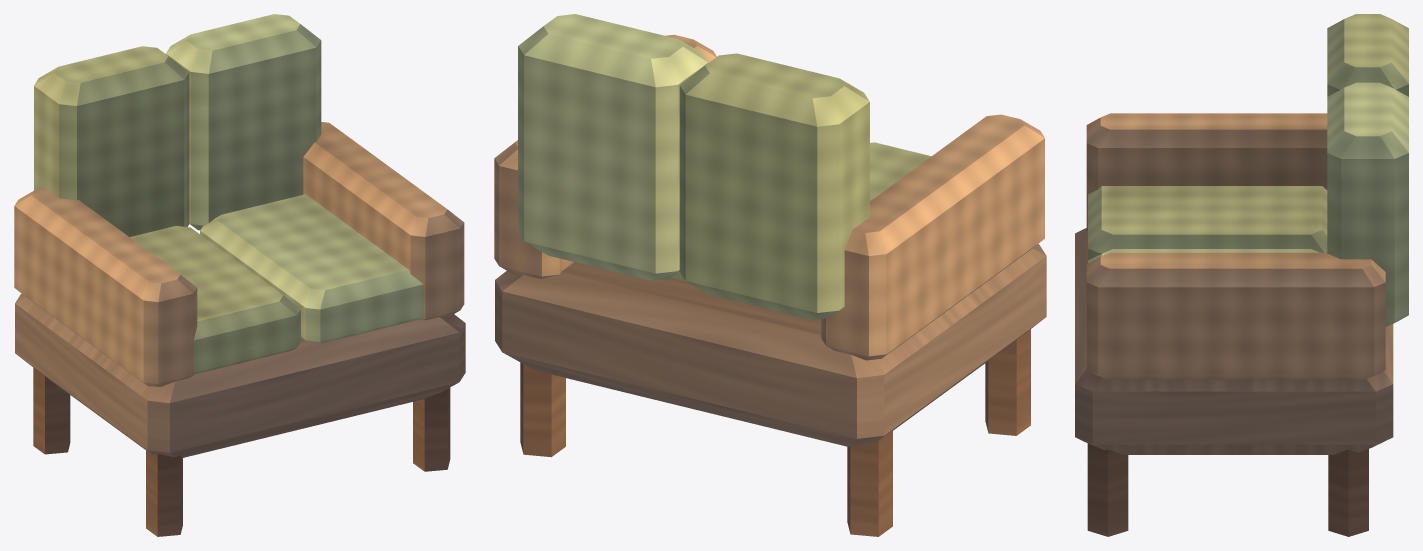
The model's file is furniture_armchair.glb.
3 views of the same model, side by side, from view 1: azimuth 30°, elevation 25°; view 2: azimuth 150°, elevation 25°; view 3: azimuth 270°, elevation 25° (orthographic). The views are drawn at different scales.
Visible parts, largest first — view 1: Lesesessel; view 2: Lesesessel; view 3: Lesesessel.
Boxes of the visible parts, box(x1,y1,x2,y2) form: Lesesessel: box(14, 14, 465, 536); Lesesessel: box(494, 14, 1046, 536); Lesesessel: box(1075, 14, 1408, 536).
Size of the model in its own units: 1.02 by 1.09 by 0.86.
Materials: 2 (2 with a texture image).
